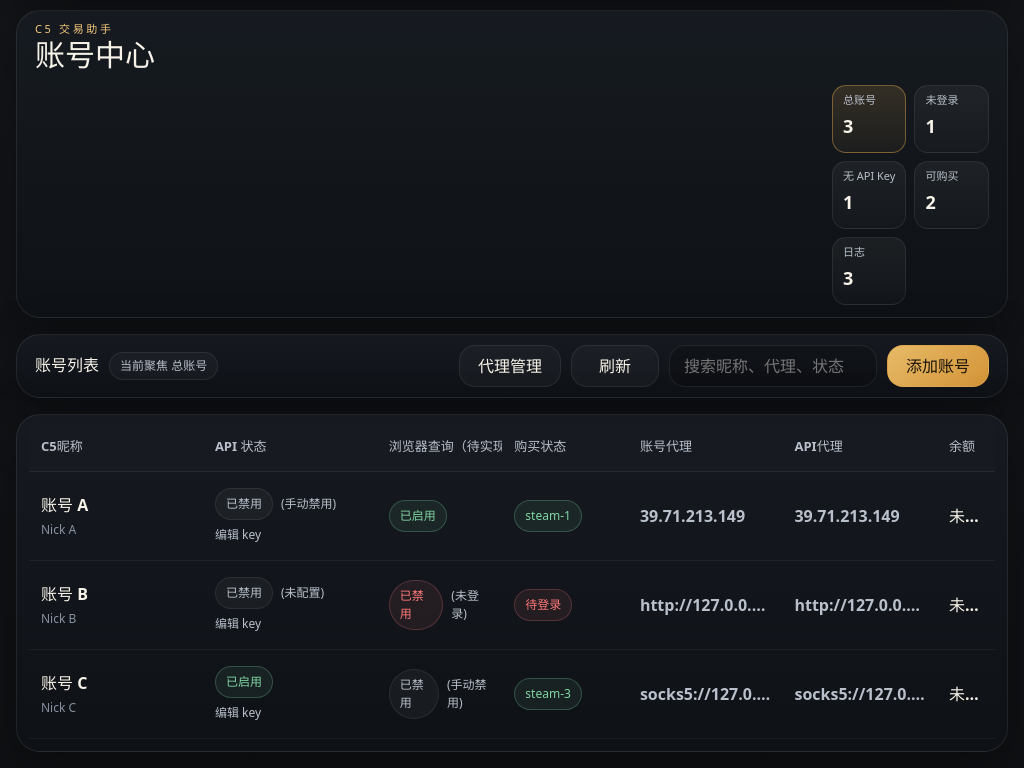
Scenario: account center editing flows › updates remark and api key with modal editors
The image size is (1024, 768).
(page scrolled)
Expected: the text "账号 A" is shown, 41,494 -> 88,516
Click the button with aria-label "编辑昵称 账号 A". click: click(116, 516)
box: 41,493 -> 191,539
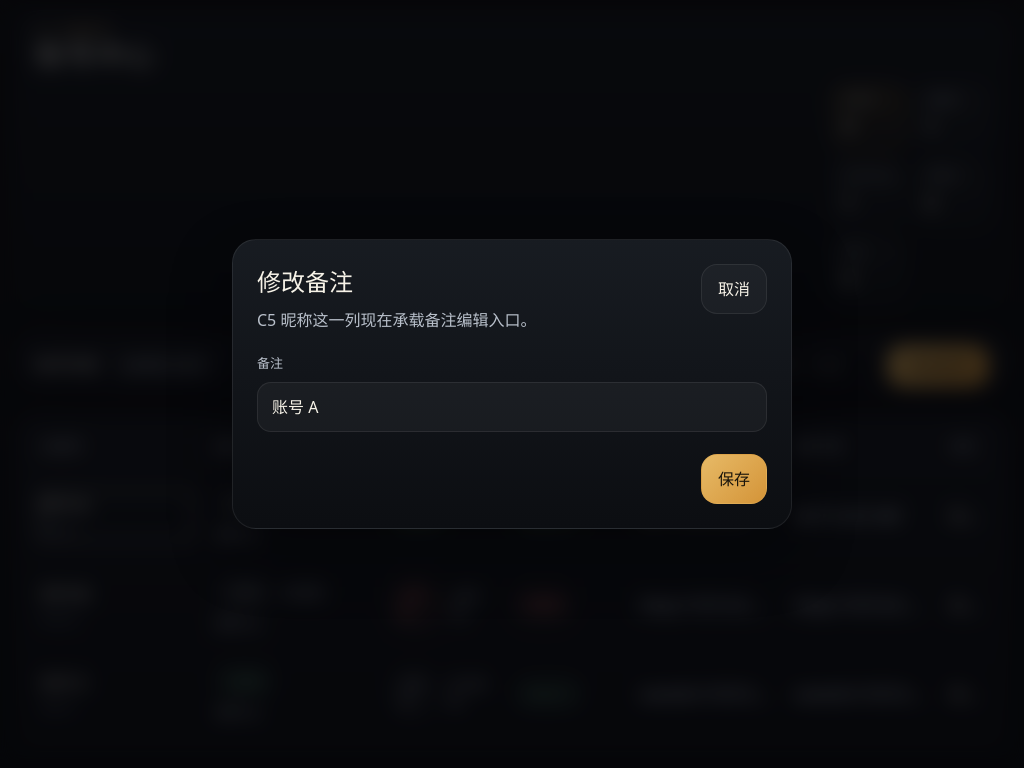
Now the heading "修改备注" is shown, box 257,265 -> 353,298
Replace the text in the field labelled "备注" with "新备注". click: (512, 407)
box: 257,382 -> 767,432
Click the button "保存". click: click(734, 479)
box: 701,454 -> 767,504
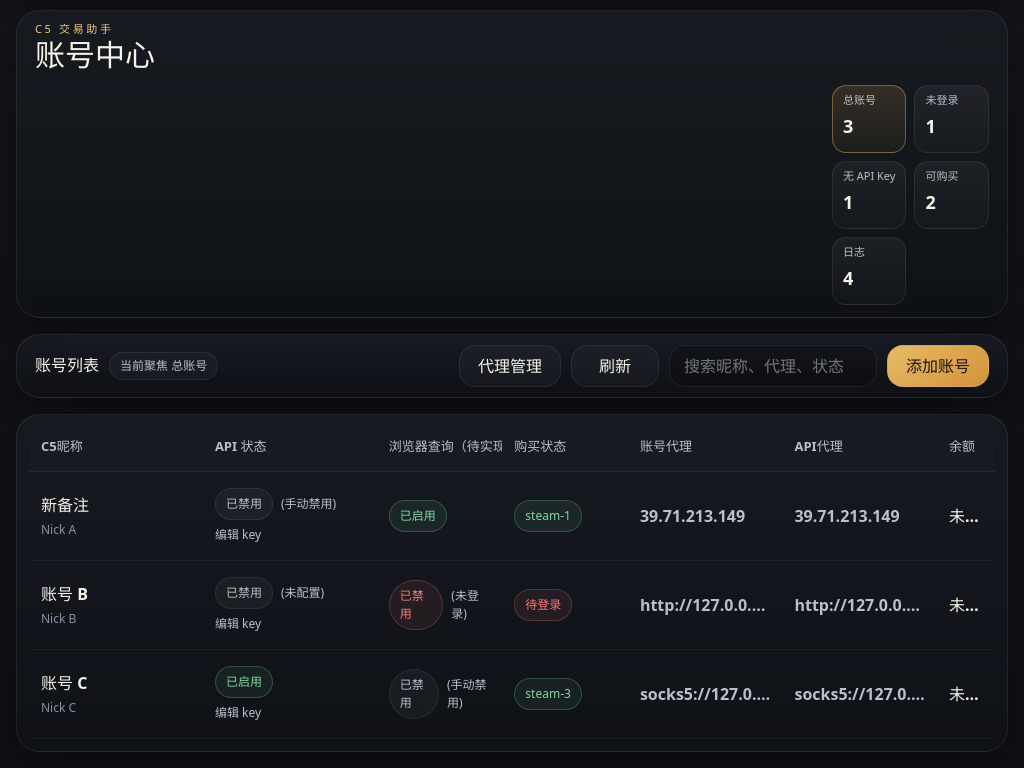
Now the text "新备注" is shown, box 41,494 -> 89,516
Click the button with aria-label "编辑 API Key 账号 B". click: click(238, 624)
box: 215,615 -> 261,633
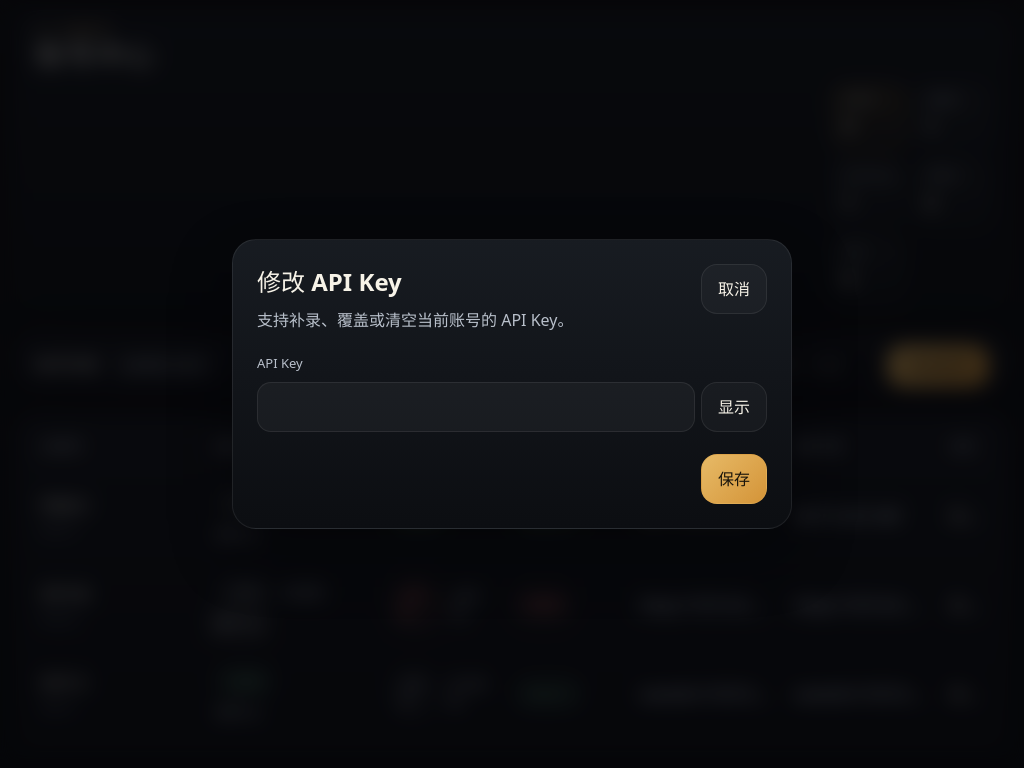
Now the heading "修改 API Key" is shown, box 257,265 -> 402,298
Type "api-b-new" into the password field labelled "API Key". click: (476, 407)
box: 257,382 -> 695,432
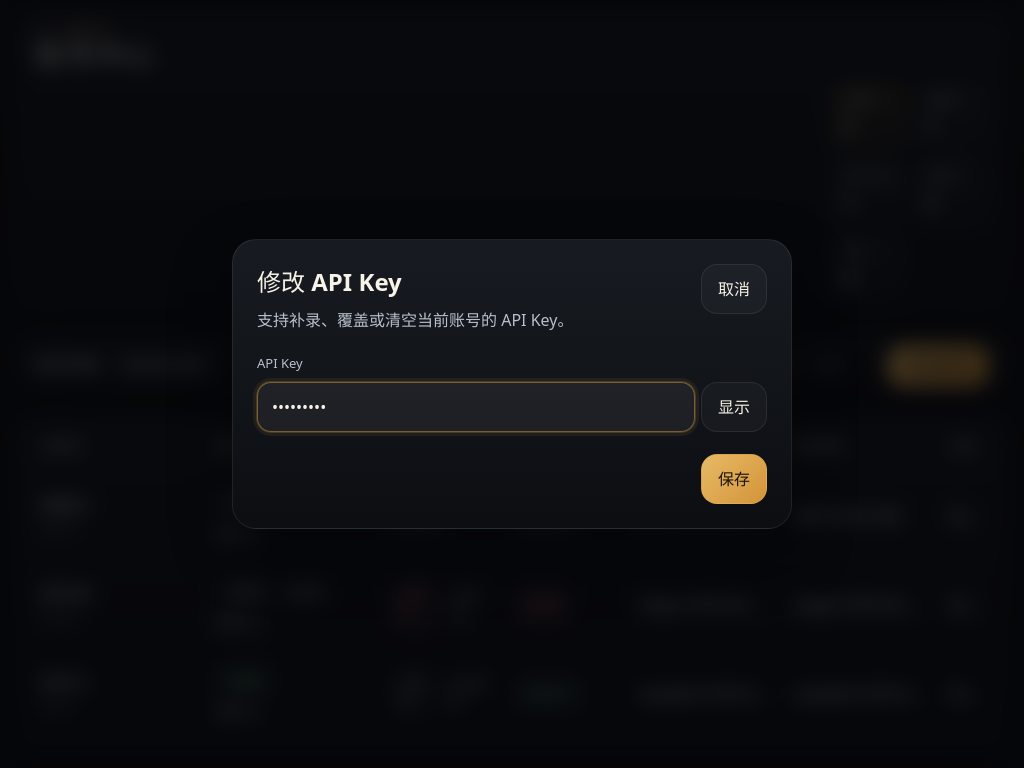
Click the button "保存". click: click(734, 479)
box: 701,454 -> 767,504
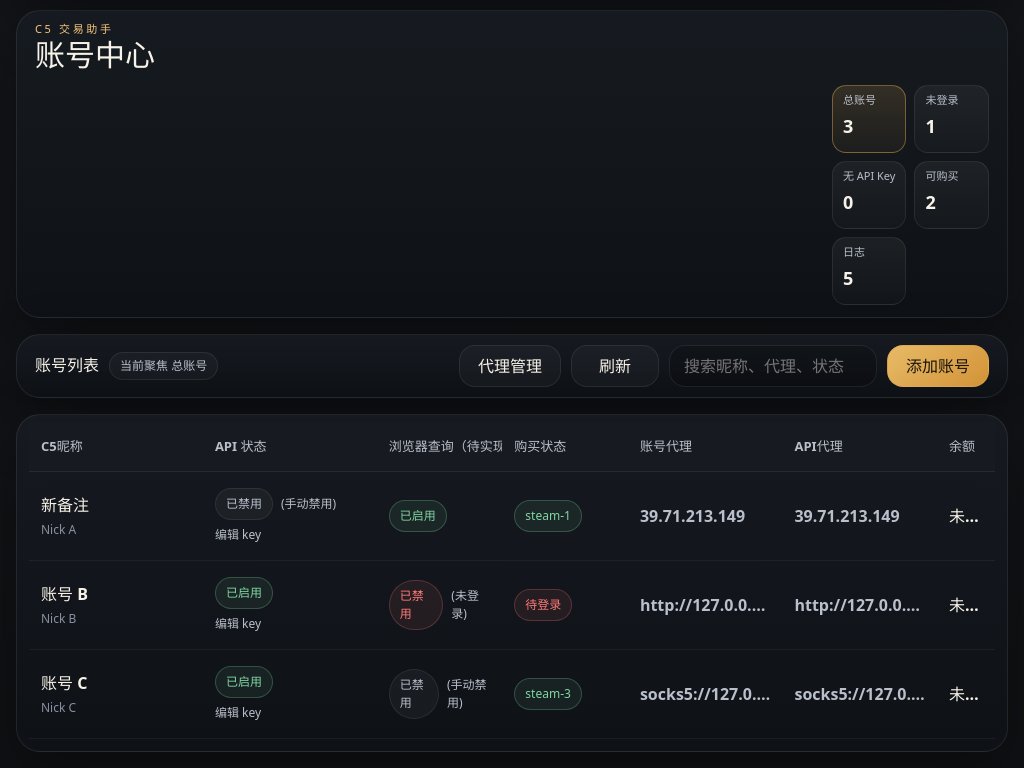
Click the button "日志 5". click: click(869, 271)
box: 832,237 -> 906,305
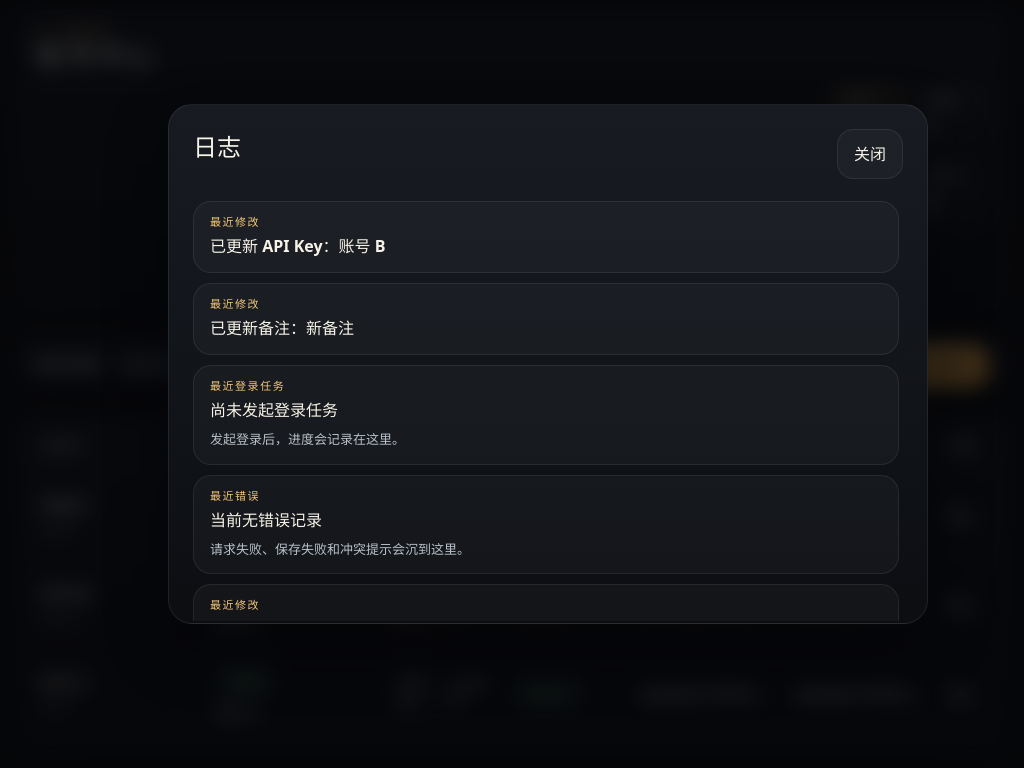
Now the text "已更新 API Key：账号 B" is shown, box 210,235 -> 385,257
